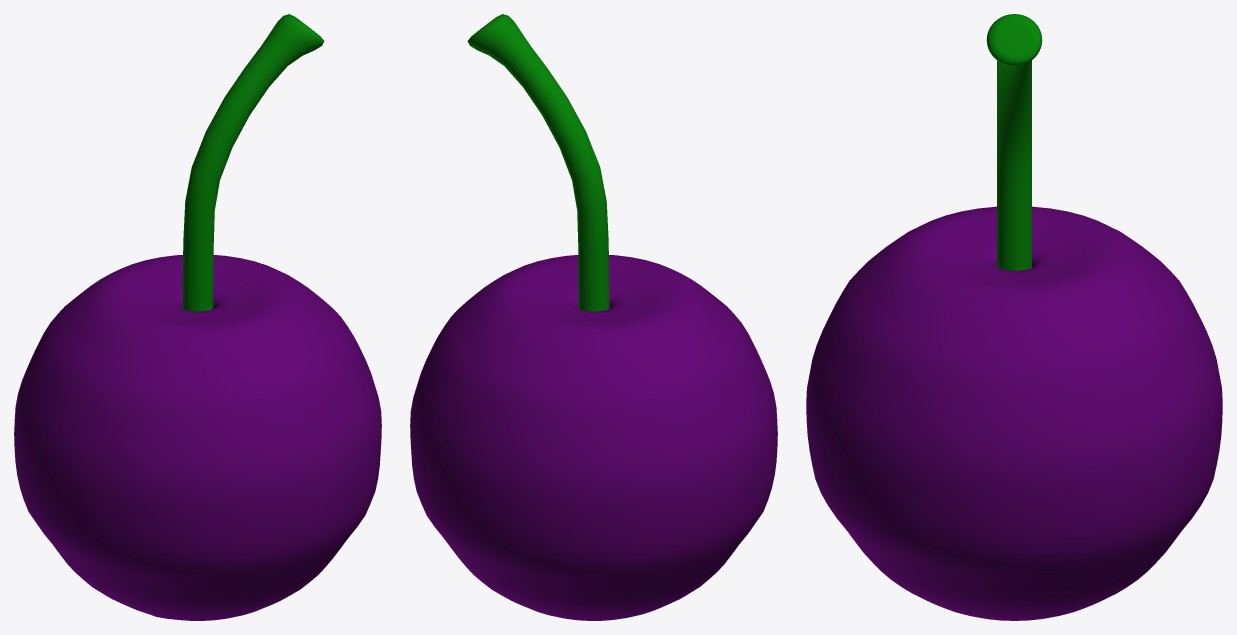
The model's file is purplecherry.fbx.
3 renders of one model, left to right at view 1: azimuth 30°, elevation 25°; view 2: azimuth 150°, elevation 25°; view 3: azimuth 270°, elevation 25°, orthographic. The views are drawn at different scales.
Visible parts, largest first — view 1: pSphere1; view 2: pSphere1; view 3: pSphere1.
Part boxes in pixels (left/top/right/bottom): pSphere1: left=14, top=14, right=381, bottom=620; pSphere1: left=410, top=14, right=777, bottom=620; pSphere1: left=806, top=14, right=1222, bottom=620.
Size of the model in its own units: 1.98 by 3.32 by 1.98.
